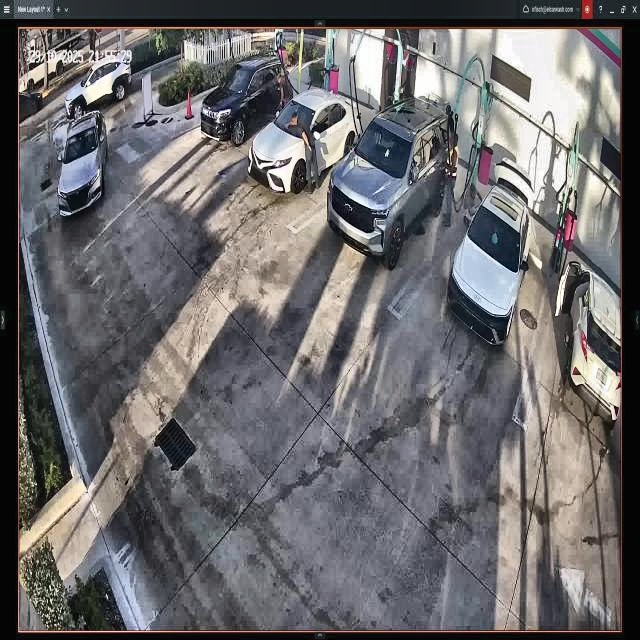Car: (328, 100, 457, 275), (450, 161, 534, 345), (250, 86, 360, 194), (201, 59, 293, 146)
